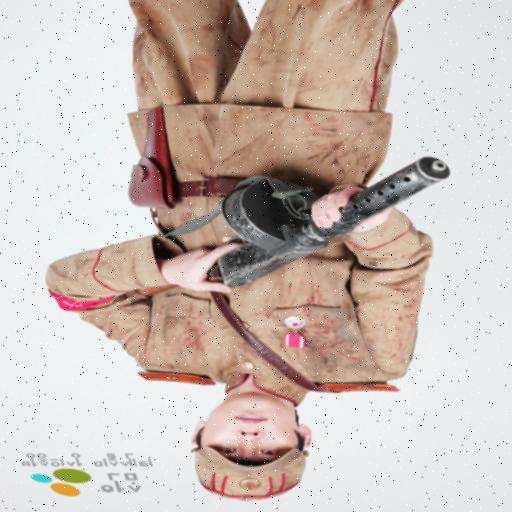north army: (45, 0, 461, 494)
